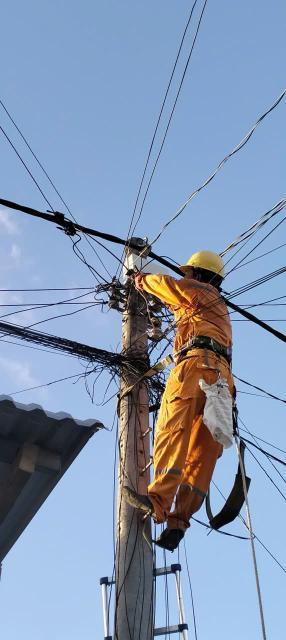gloves: (126, 265, 147, 293)
harness: (179, 319, 248, 368)
helmet: (174, 238, 240, 287)
shoes: (116, 475, 167, 529), (152, 512, 190, 561)
